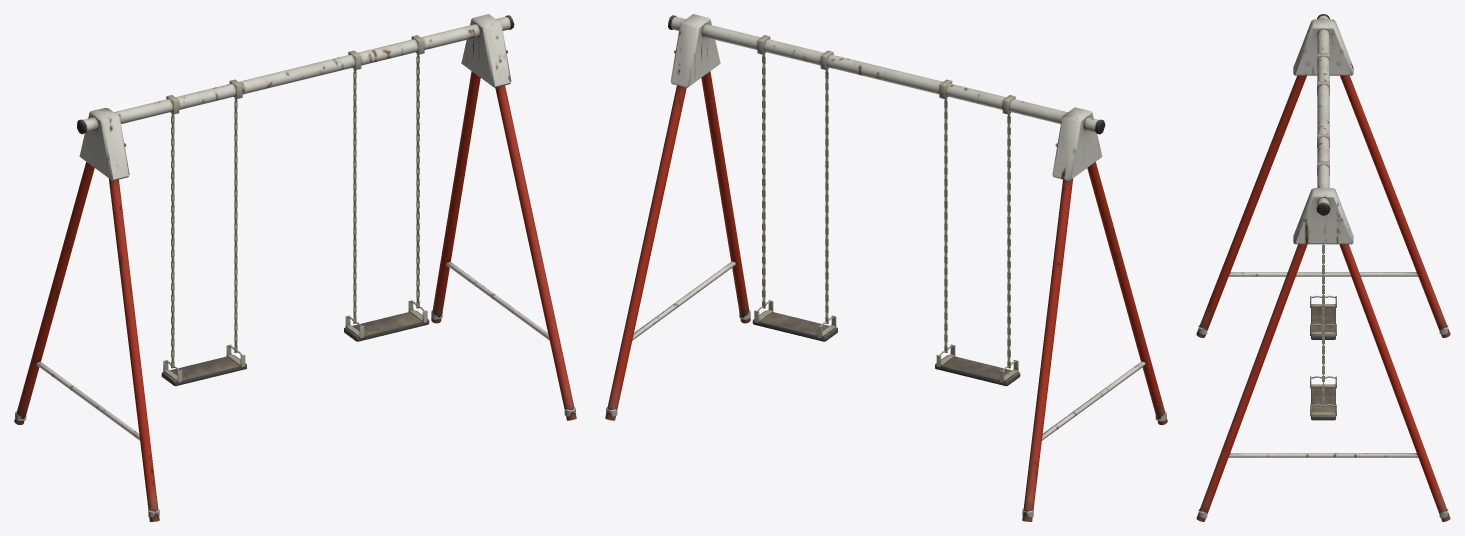
File: swing_set-low.glb
3 views of the same model, side by side, from view 1: azimuth 30°, elevation 25°; view 2: azimuth 150°, elevation 25°; view 3: azimuth 270°, elevation 25° (orthographic). The views are drawn at different scales.
Visible parts, largest first — view 1: swing_set, swing_set_swing1, swing_set_swing0; view 2: swing_set, swing_set_swing1, swing_set_swing0; view 3: swing_set, swing_set_swing1, swing_set_swing0.
Boxes of the visible parts, x1=… form: swing_set: x1=14, y1=14, x2=576, y2=521; swing_set_swing1: x1=344, y1=35, x2=429, y2=341; swing_set_swing0: x1=161, y1=79, x2=246, y2=386; swing_set: x1=605, y1=14, x2=1167, y2=521; swing_set_swing1: x1=752, y1=35, x2=837, y2=341; swing_set_swing0: x1=935, y1=79, x2=1020, y2=386; swing_set: x1=1196, y1=14, x2=1450, y2=521; swing_set_swing1: x1=1310, y1=134, x2=1336, y2=420; swing_set_swing0: x1=1310, y1=53, x2=1336, y2=339.
Size of the model in its own units: 2.94 by 2.31 by 1.66.
3 materials, 3 textured.
